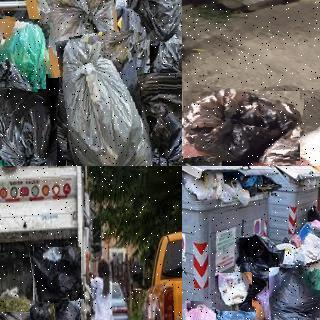Garbage: (61, 32, 155, 166), (182, 87, 302, 164), (36, 0, 120, 75), (0, 61, 58, 166), (141, 72, 182, 166), (232, 231, 294, 289), (0, 17, 47, 90), (31, 246, 83, 308), (268, 267, 320, 320), (122, 0, 182, 42), (292, 241, 320, 290), (216, 273, 252, 311), (183, 299, 227, 320), (217, 305, 255, 320), (29, 301, 55, 320), (55, 301, 81, 320), (300, 225, 320, 249), (0, 311, 31, 320)
